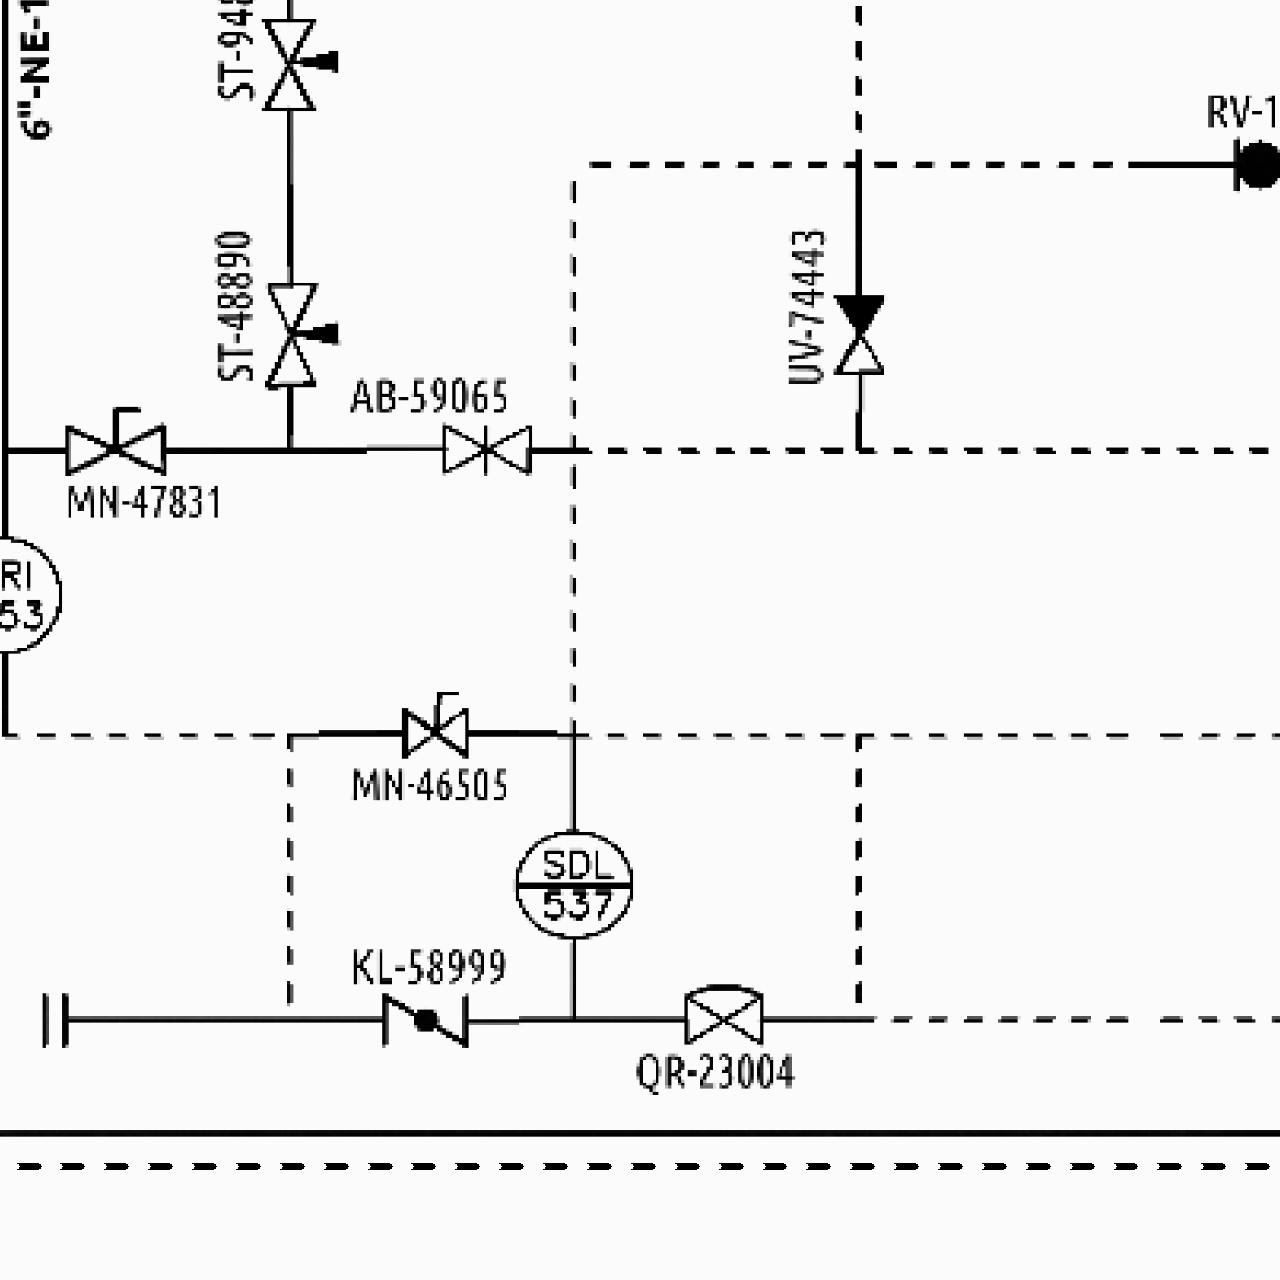Half closed valve: (828, 290, 888, 377)
